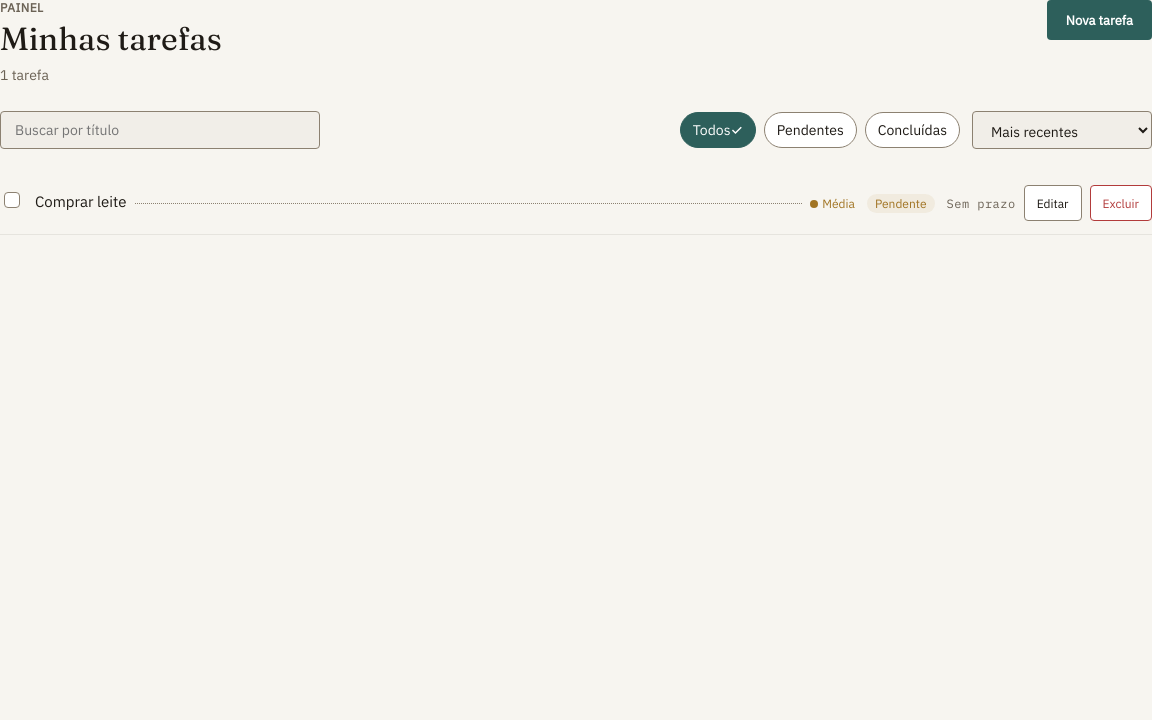
TasksDashboardPage — CRUD › editing a task that no longer exists (404) closes the dialog and shows a contextual message
The width and height of the screenshot is (1152, 720).
What coordinates should you click on to do the following:
click the button named "Editar \"Comprar leite\""
I would click on:
 (1053, 203)
Its box is [1024,185,1082,221].
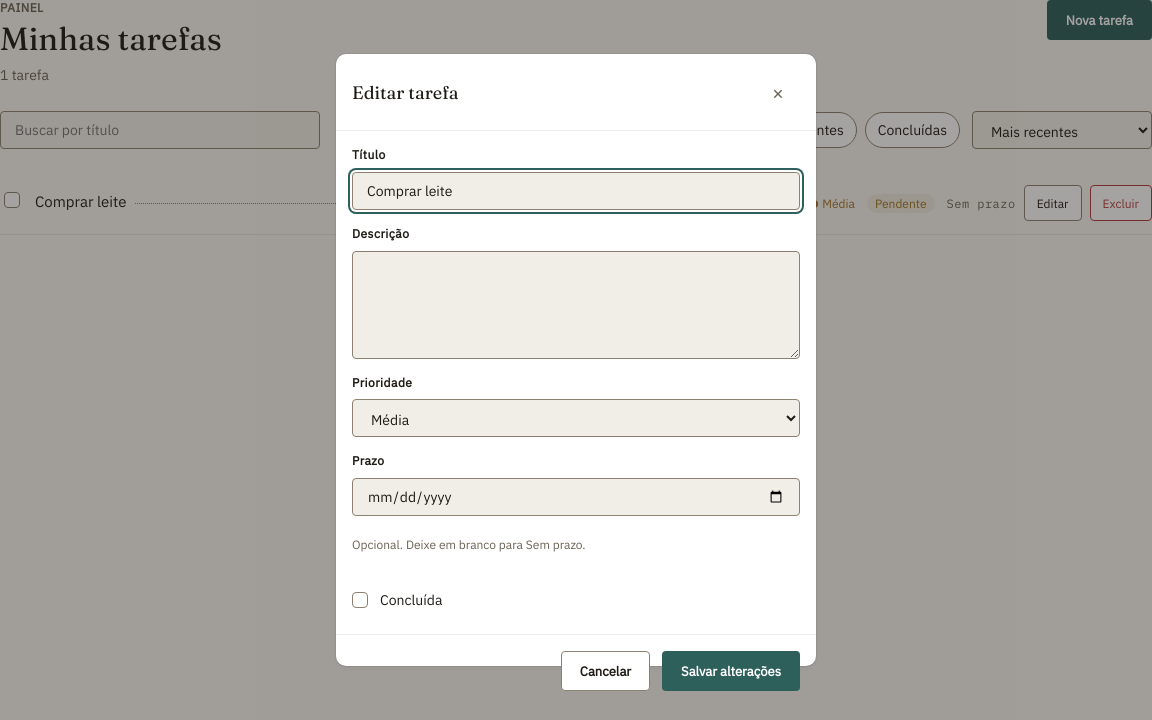
What coordinates should you click on to do the following:
click the button "Salvar alterações"
I would click on:
 (731, 671)
Its box is [662,651,800,691].
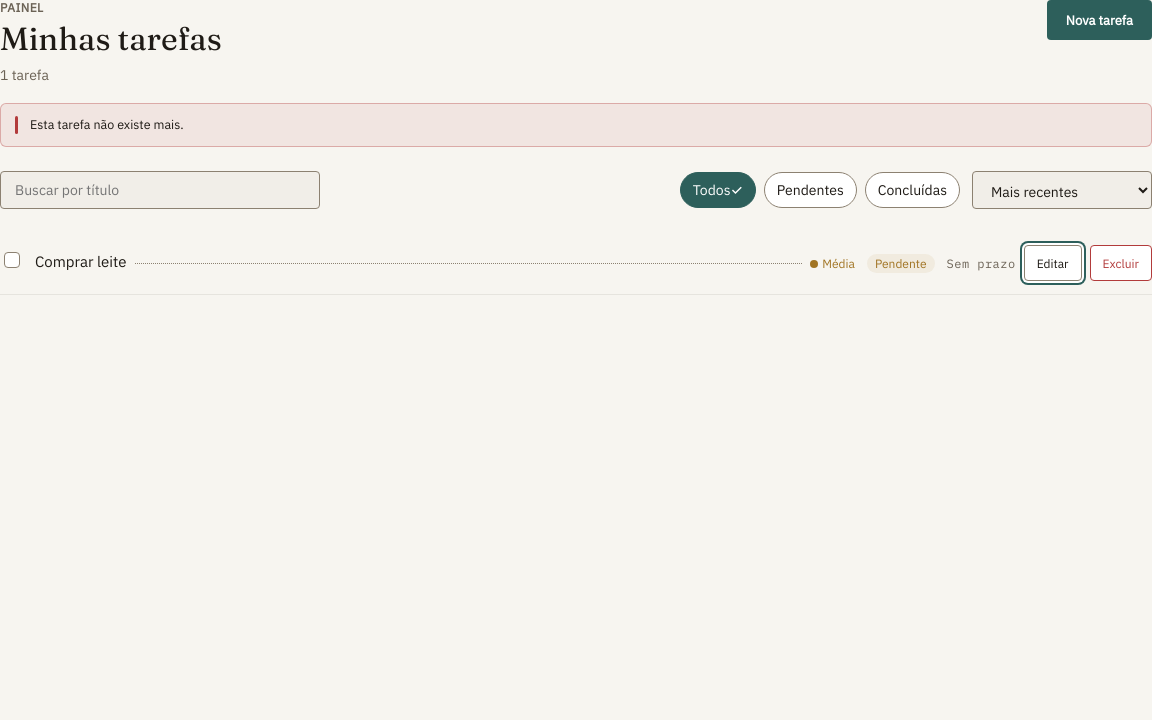
expect the text "Esta tarefa não existe mais." is shown: met, box [30,116,184,132]
expect the dialog is gone: met
